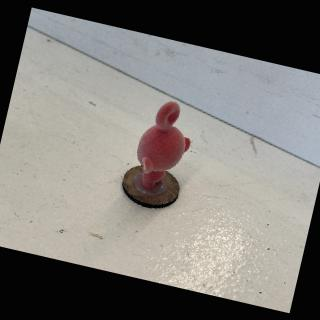teletubby: (137, 101, 190, 190)
